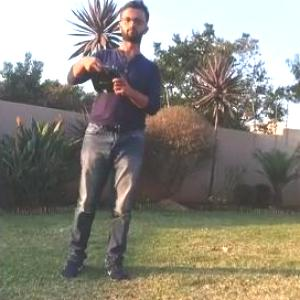follow: (56, 0, 167, 287)
